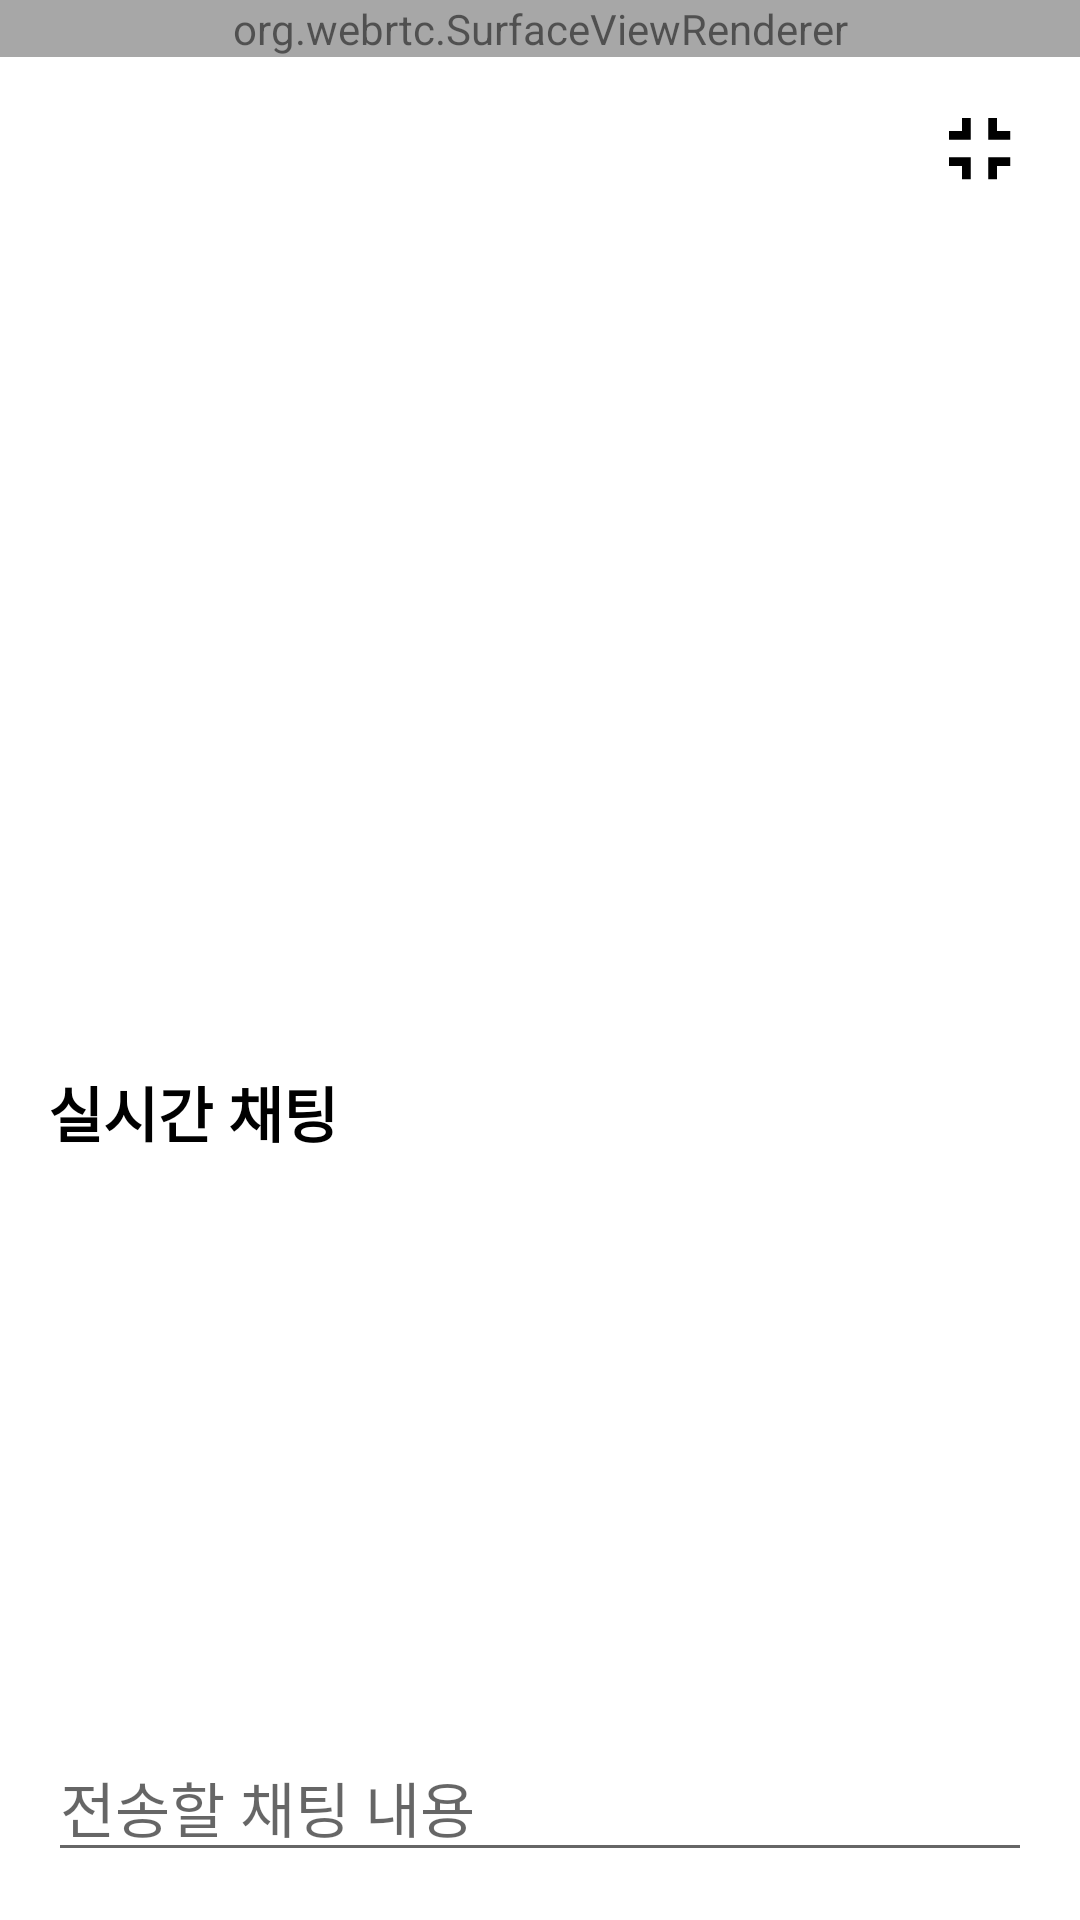

Where to tap for icons on this 1080px×1920px app screen, as point (x, y):
fullscreen exit: point (980, 149)
